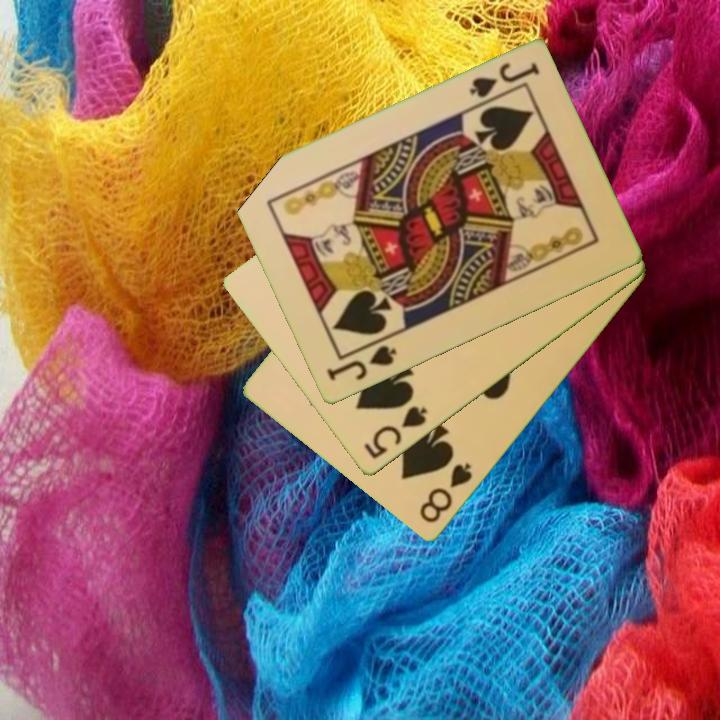5s: (360, 403, 431, 463)
8s: (415, 460, 476, 527)
Js: (465, 60, 543, 102), (323, 342, 400, 384)
